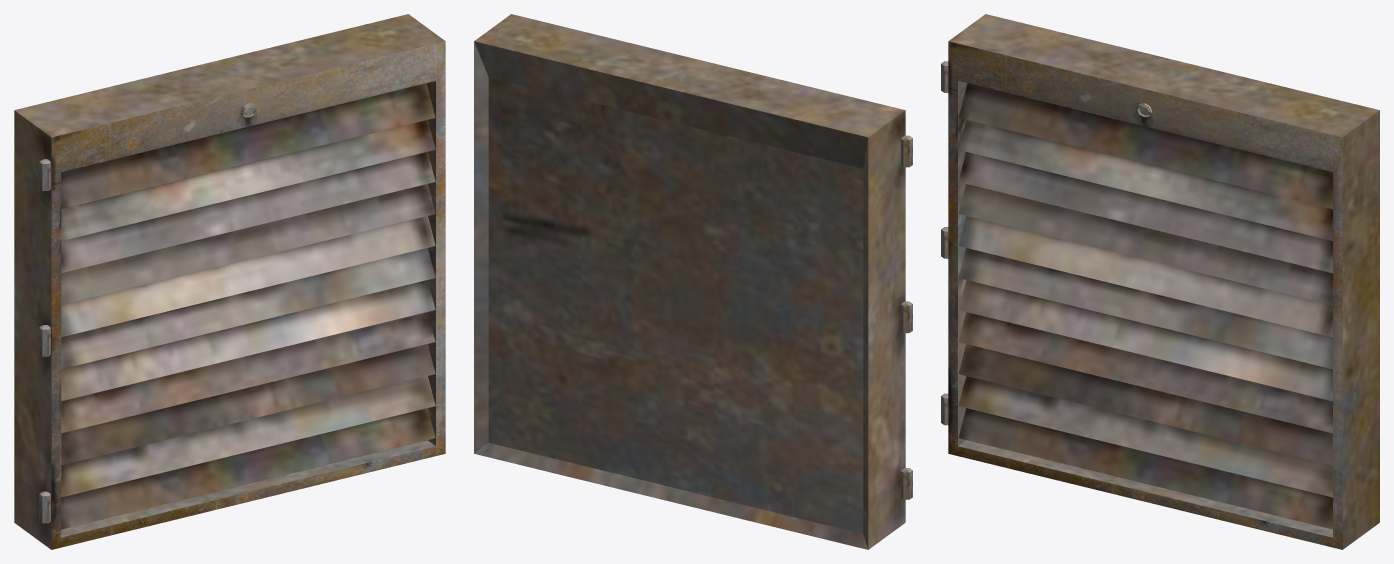
Rendered from door_ventdoor.dae.
3 views of the same model, side by side, from view 1: azimuth 30°, elevation 25°; view 2: azimuth 150°, elevation 25°; view 3: azimuth 330°, elevation 25° (orthographic).
Parts seen in each view (by area): view 1: ventdoor; view 2: ventdoor; view 3: ventdoor.
Boxes of the visible parts, x1=… form: ventdoor: x1=14, y1=14, x2=445, y2=549; ventdoor: x1=474, y1=14, x2=912, y2=549; ventdoor: x1=941, y1=14, x2=1379, y2=549.
Size of what is drawn, in the model's own units: 0.9207 by 0.9017 by 0.1535.
Materials: 1 (1 with a texture image).
